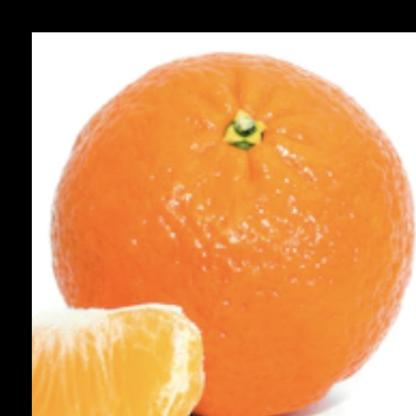fresh: (51, 48, 411, 416)
